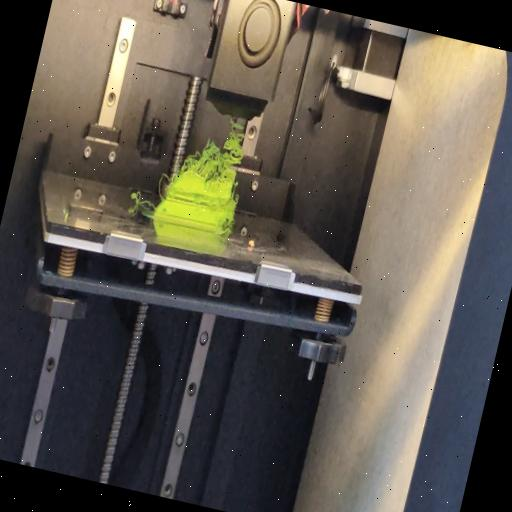spaghetti: (176, 110, 248, 186), (152, 168, 174, 203), (128, 190, 159, 212), (220, 223, 232, 240)
